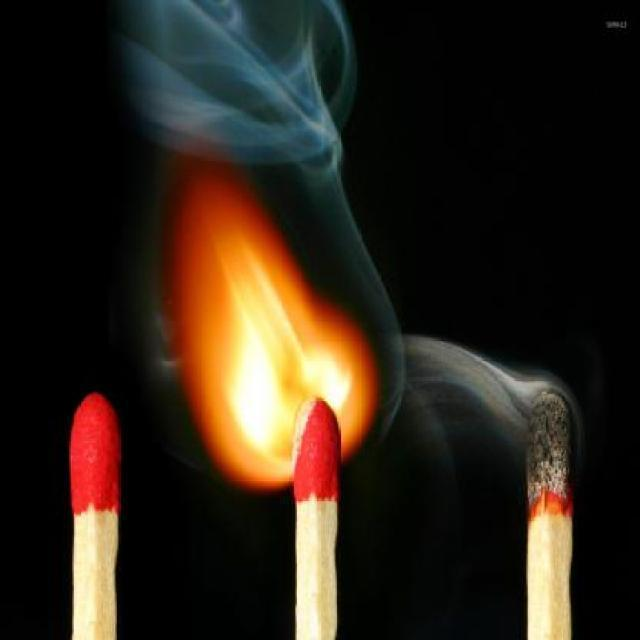Fire: (155, 154, 375, 504)
Smoke: (110, 0, 410, 447), (373, 312, 580, 516)
